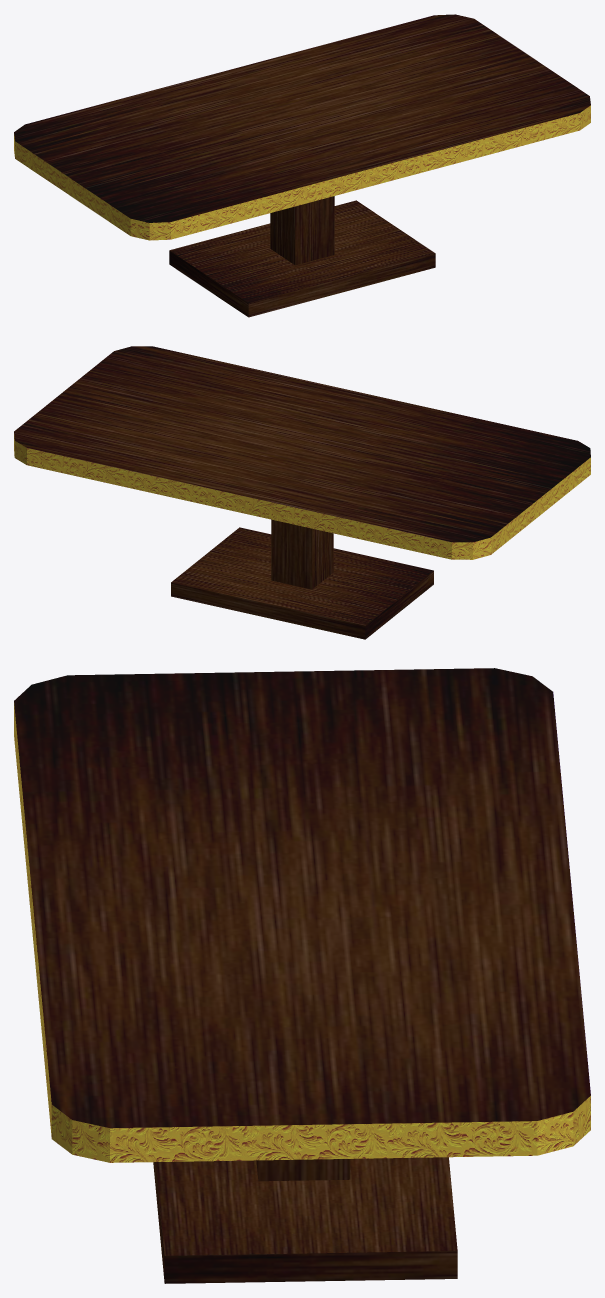
Rendered from Mesita_biblioteca.fbx.
The picture shows the model from 3 angles, top to bottom: view 1: azimuth 30°, elevation 25°; view 2: azimuth 150°, elevation 25°; view 3: azimuth 270°, elevation 25°; orthographic projection. The views are drawn at different scales.
Parts seen in each view (by area): view 1: Cube.024; view 2: Cube.024; view 3: Cube.024.
Boxes of the visible parts, x1,y1,x2,y2 form: Cube.024: [14, 14, 590, 317]; Cube.024: [14, 346, 590, 639]; Cube.024: [14, 668, 590, 1283].
Size of the model in its own units: 165 by 48.65 by 87.44.
